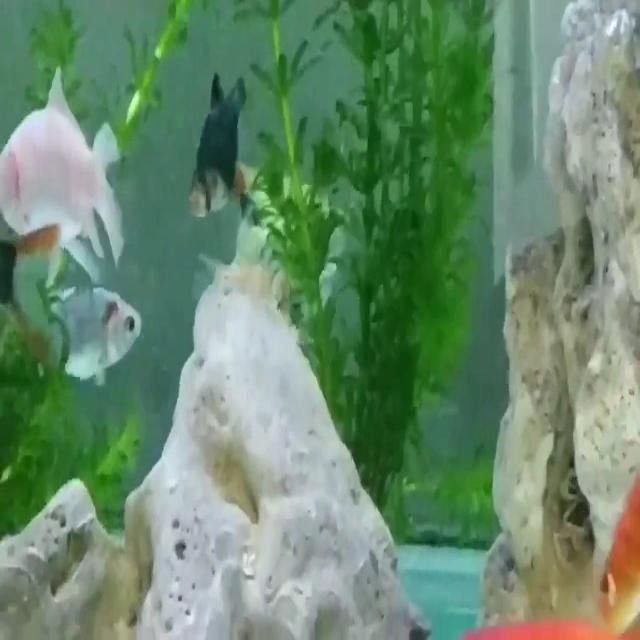GoldFish: (0, 59, 124, 265)
